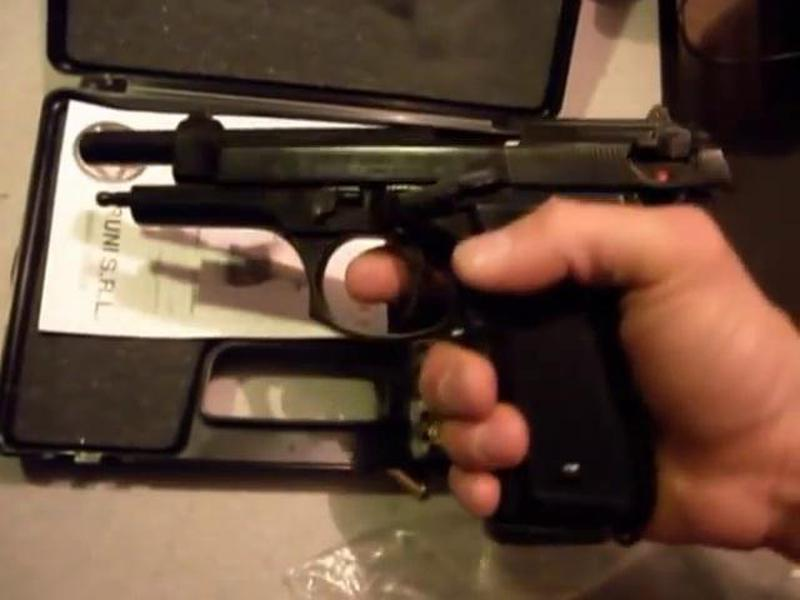Pistola: (87, 91, 732, 551)
